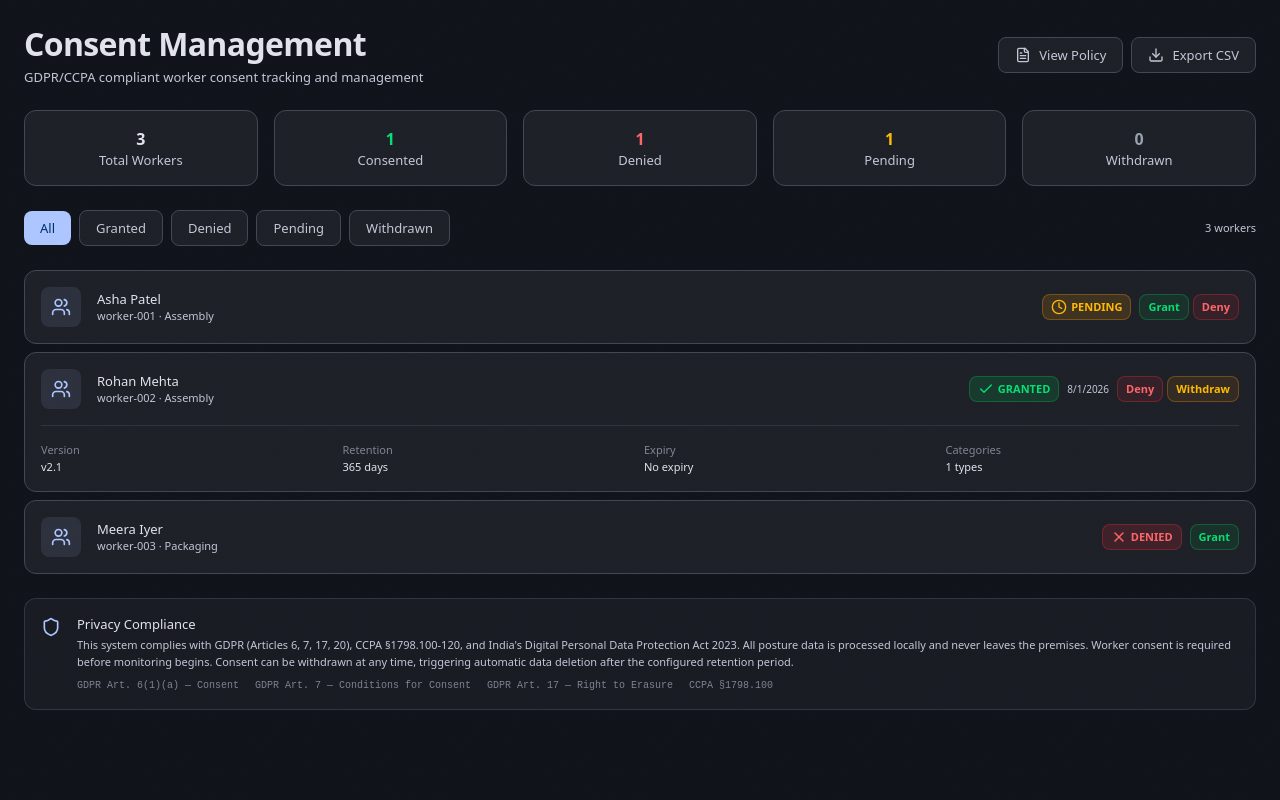
consent page interactions › filters the list by status
Expected: the text "Asha Patel" is shown, [97, 290, 161, 308]
Step 1. Click the button "Granted" → coordinates (121, 228), box [79, 210, 163, 246]
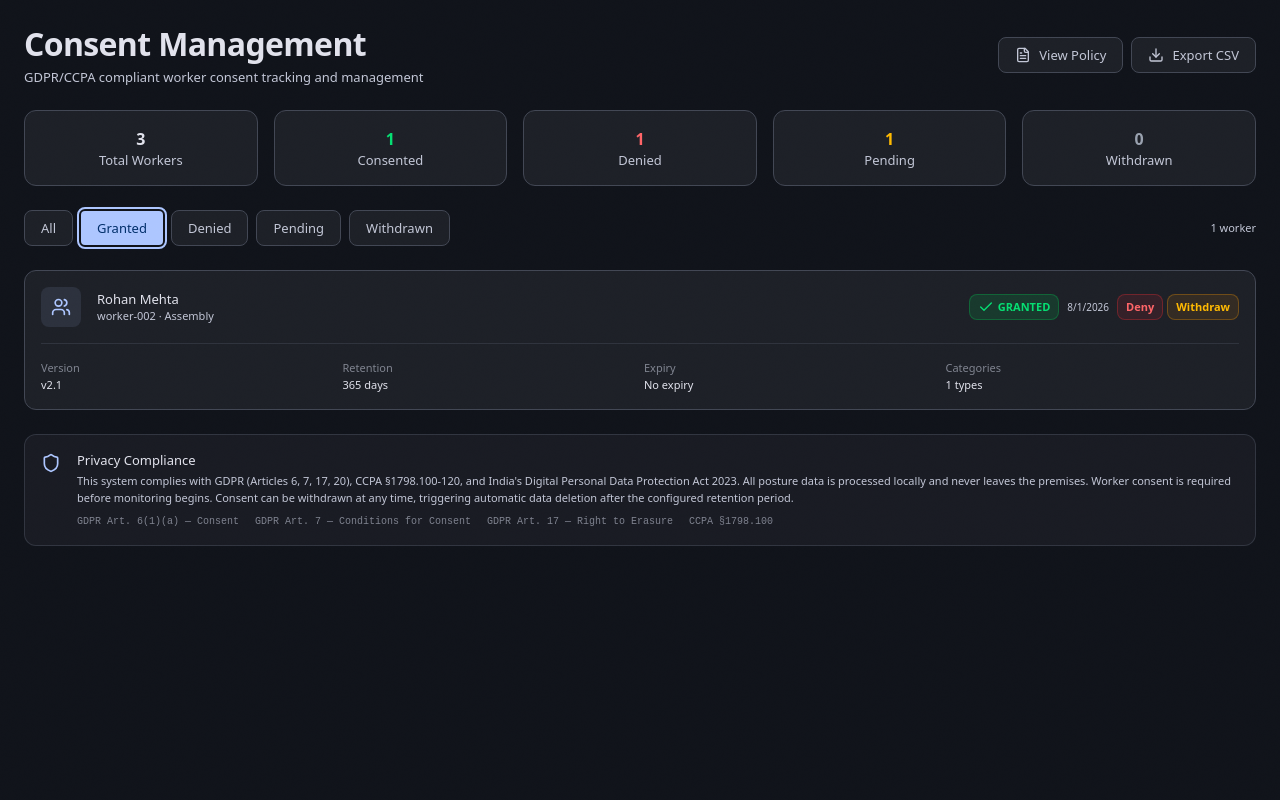
Expected: the text "Rohan Mehta" is shown, [97, 290, 179, 308]
Result: the text "Asha Patel" is gone
Result: the text "1 worker" is shown at [1210, 220, 1256, 236]
